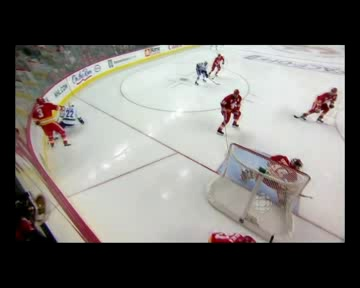normal: (30, 91, 90, 151), (291, 85, 341, 126), (214, 81, 247, 141)
